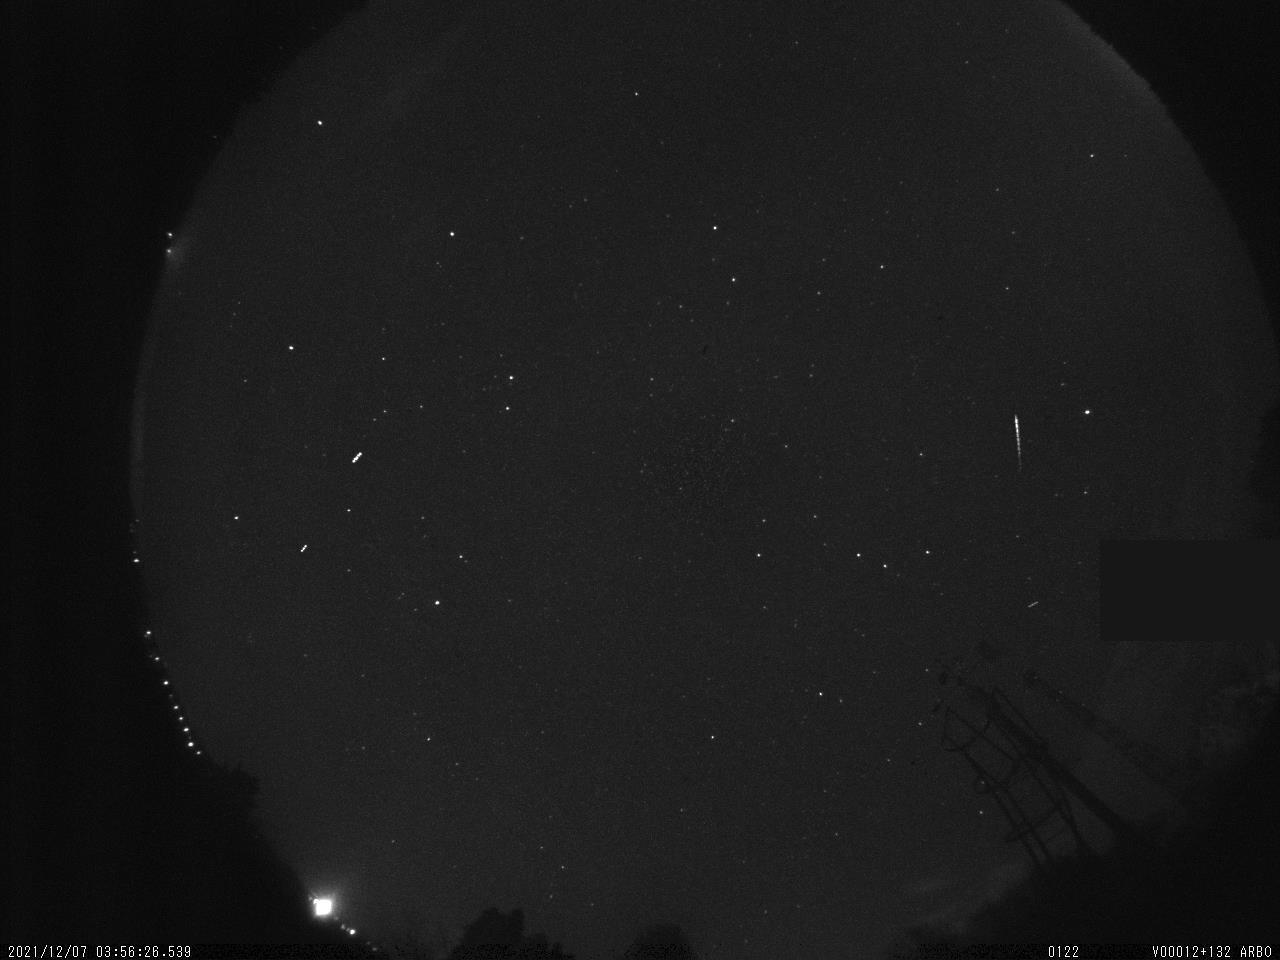meteor: (1006, 411, 1027, 475)
satelite: (349, 442, 367, 473)
